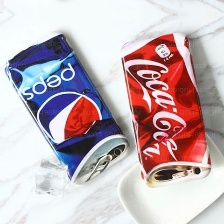can: (1, 28, 132, 188), (117, 28, 215, 197)
